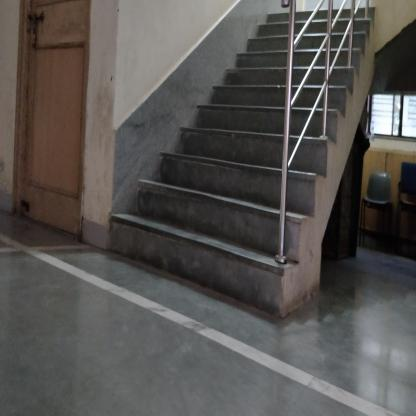stairs: (168, 127, 275, 329)
